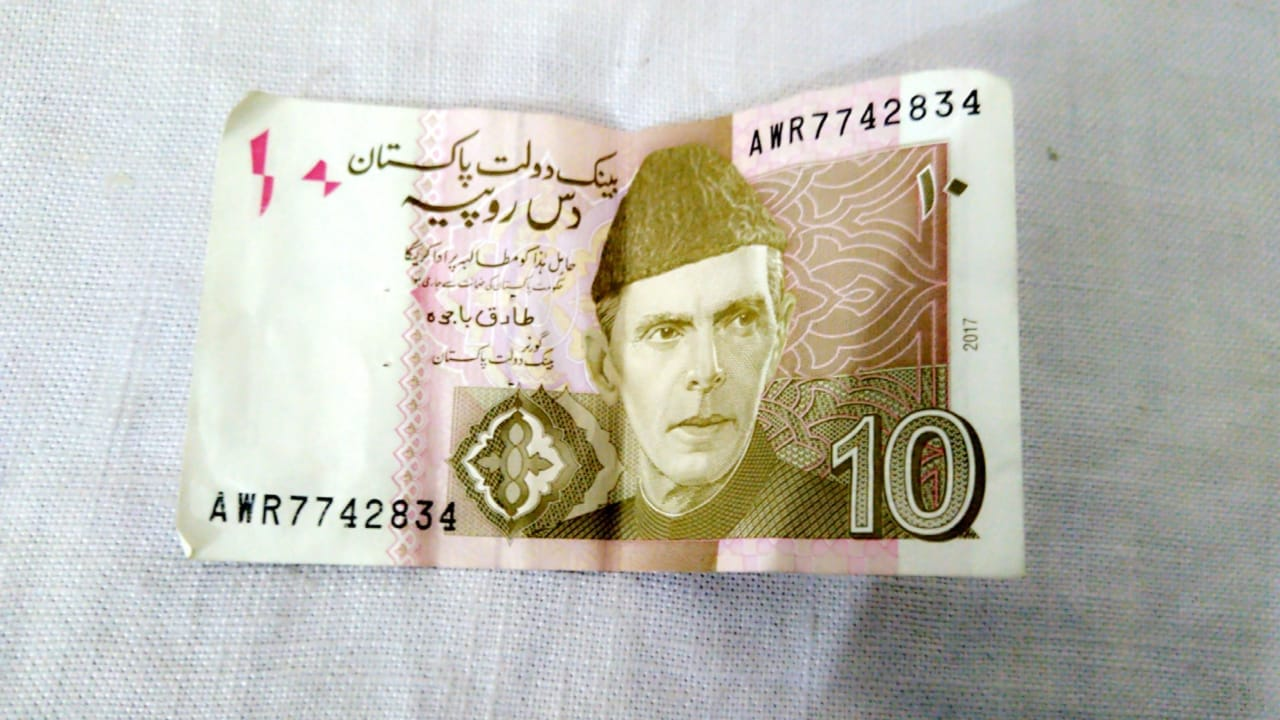10 rupee: (189, 62, 1029, 575)
